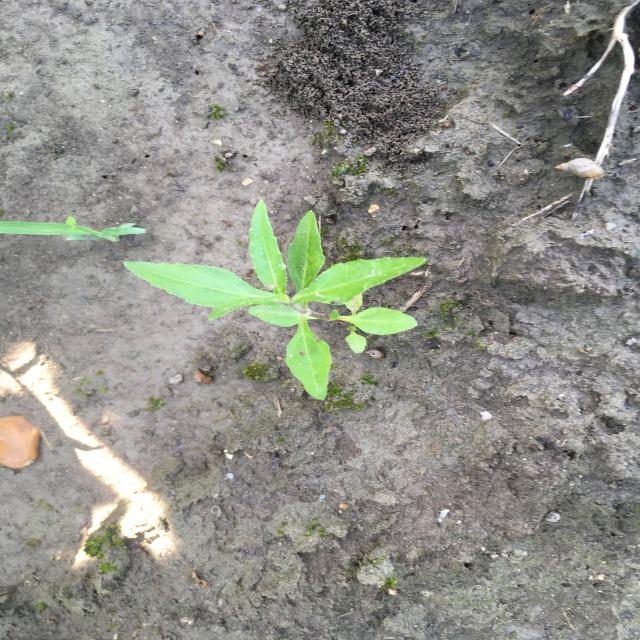Eclipta: (118, 196, 430, 406)
